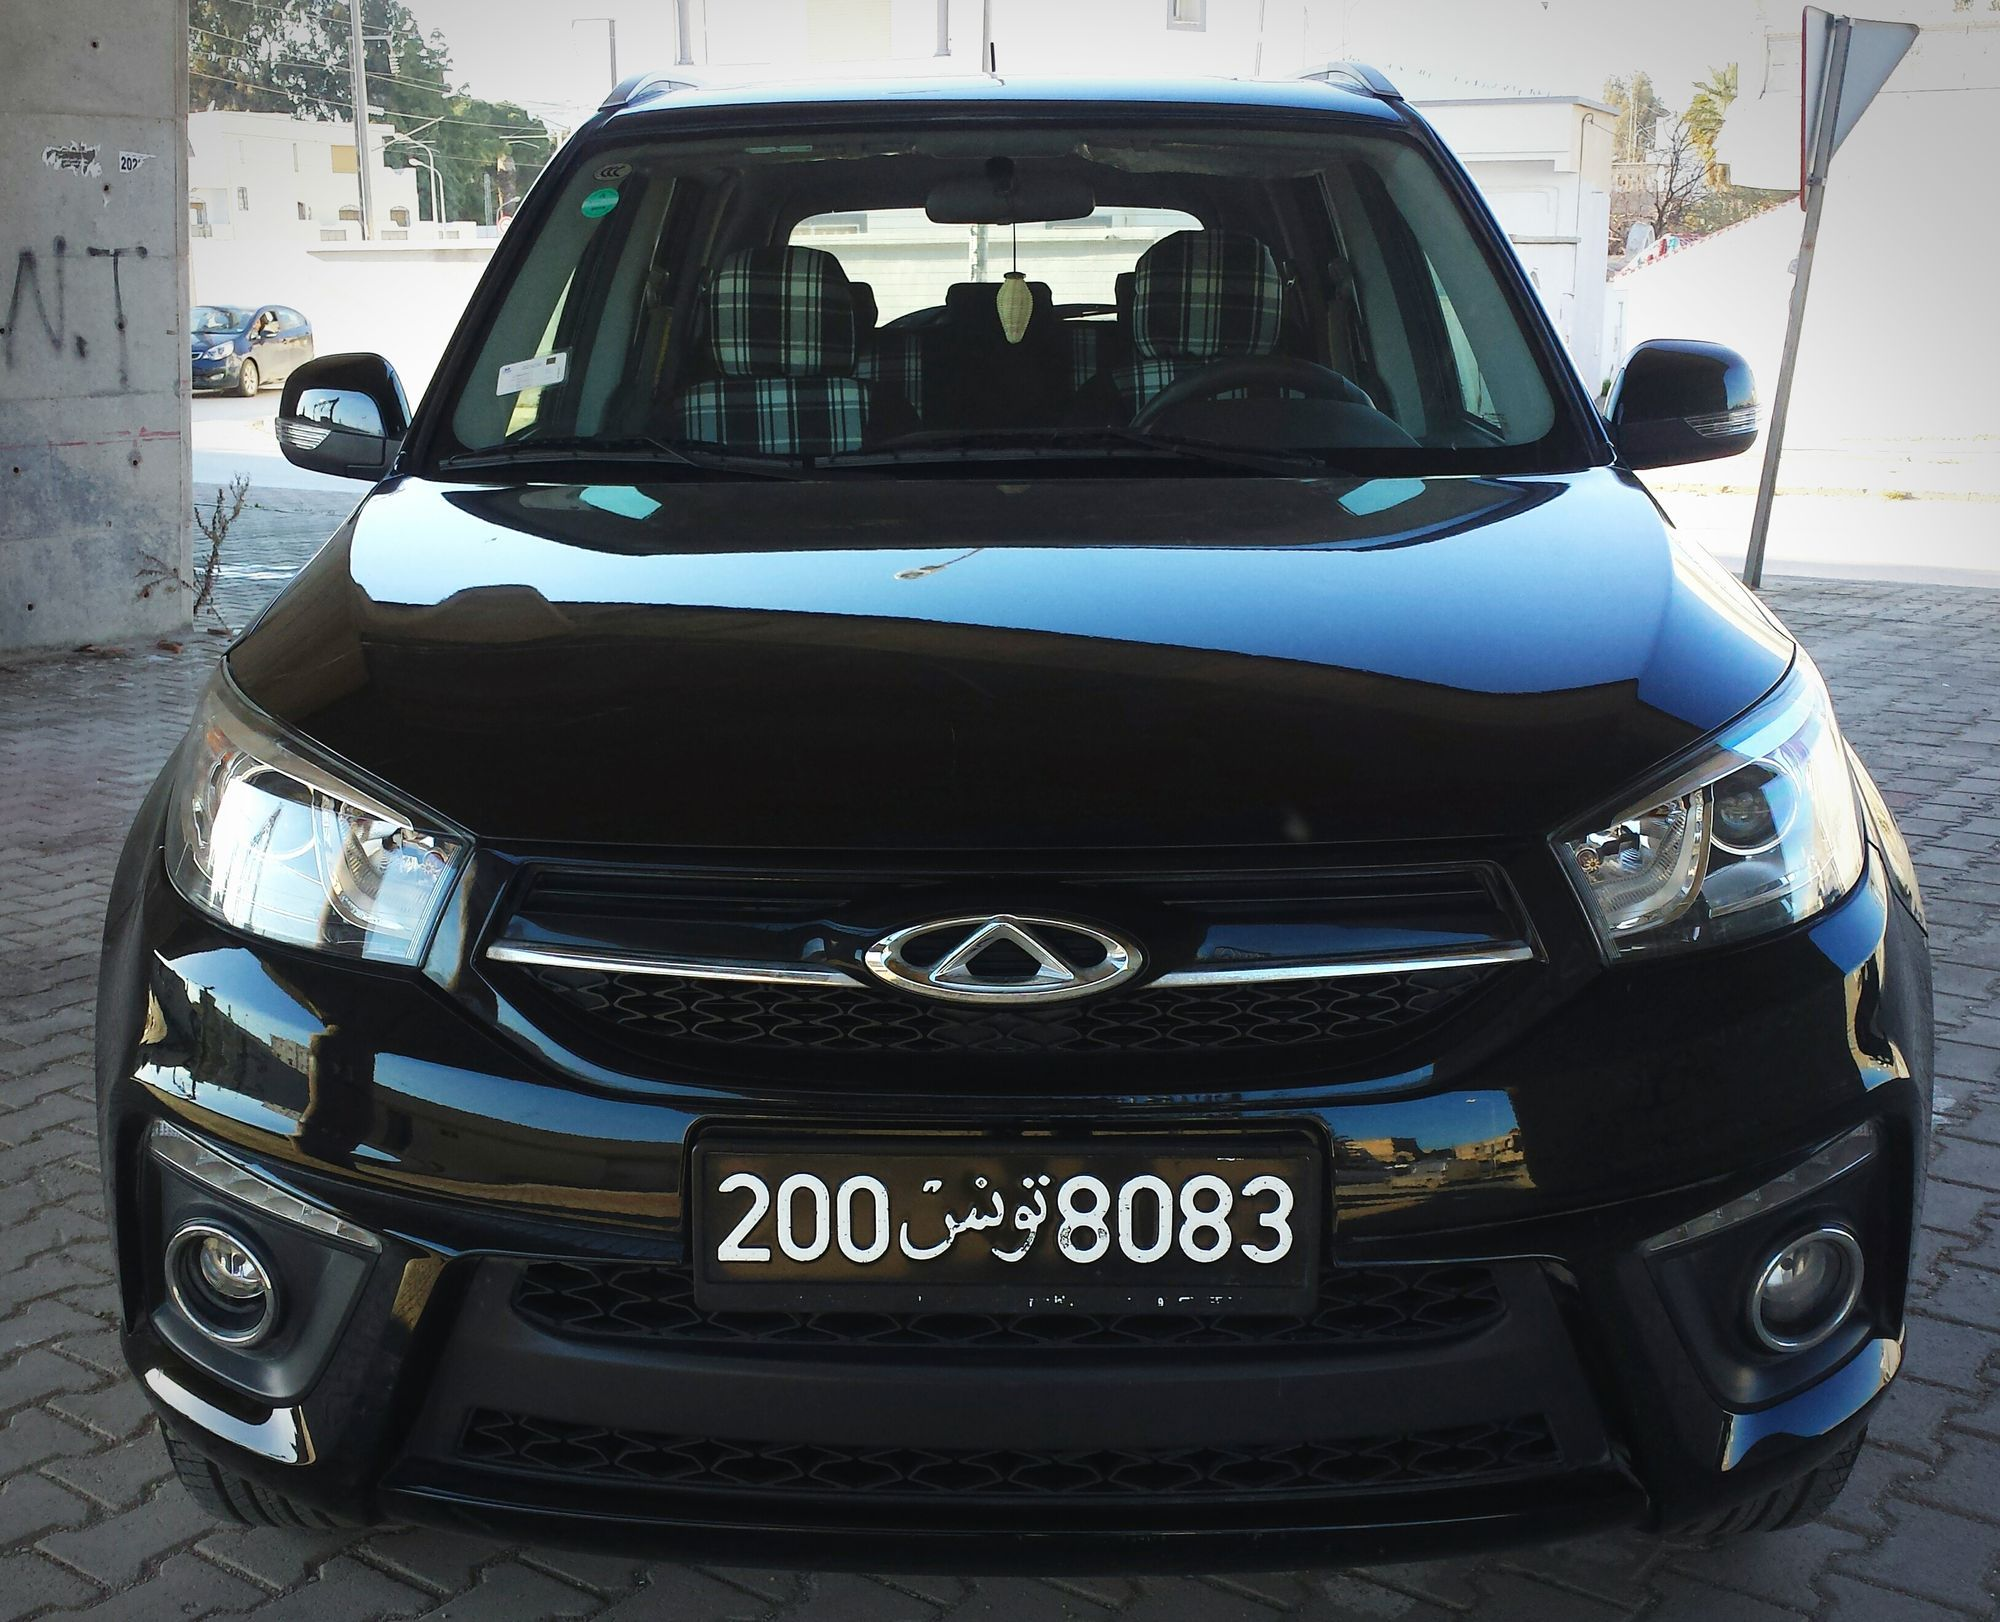LP: (688, 1141, 1319, 1290)
